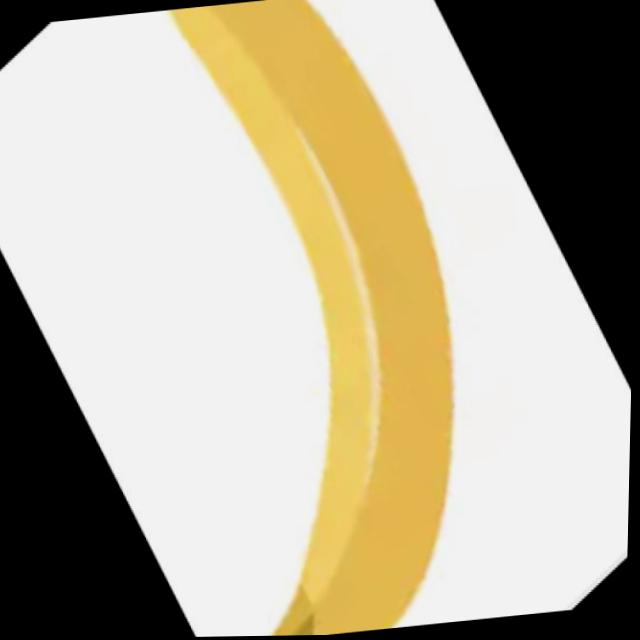Banana: (0, 0, 484, 640)
